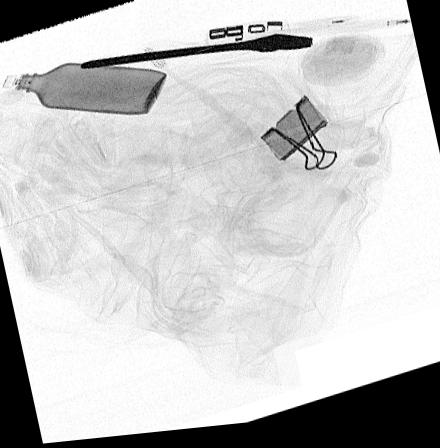Wrench: (77, 38, 314, 73)
